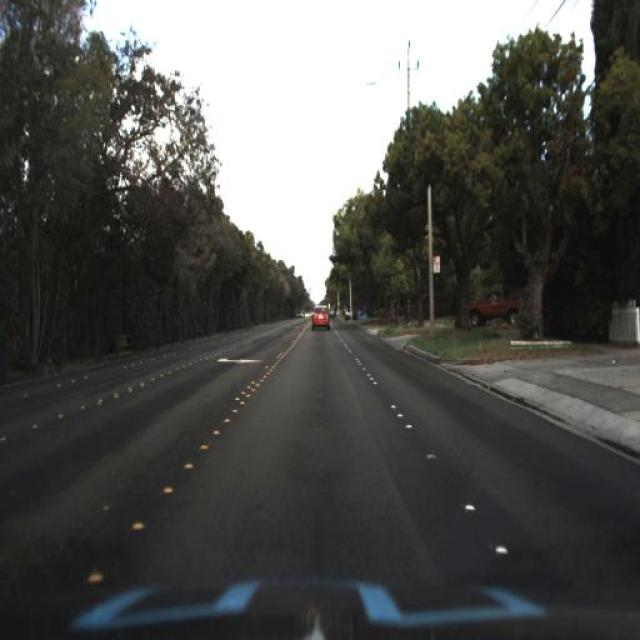car: (462, 287, 530, 327), (467, 288, 522, 327), (307, 296, 333, 340)
